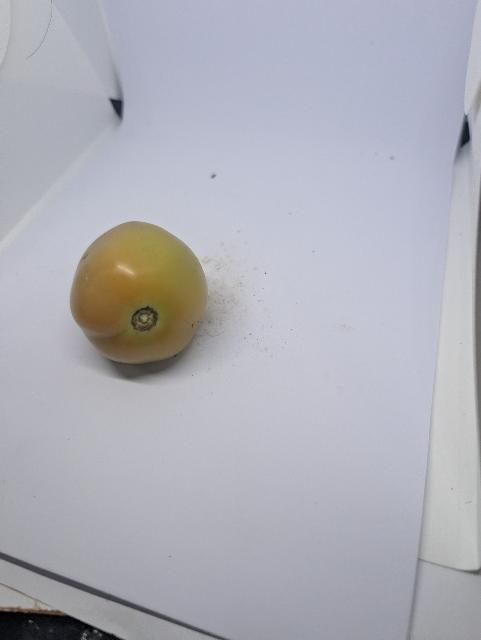turning: (70, 222, 208, 364)
